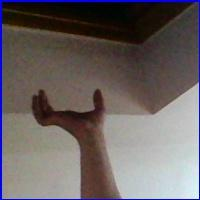space: (24, 85, 117, 137)
